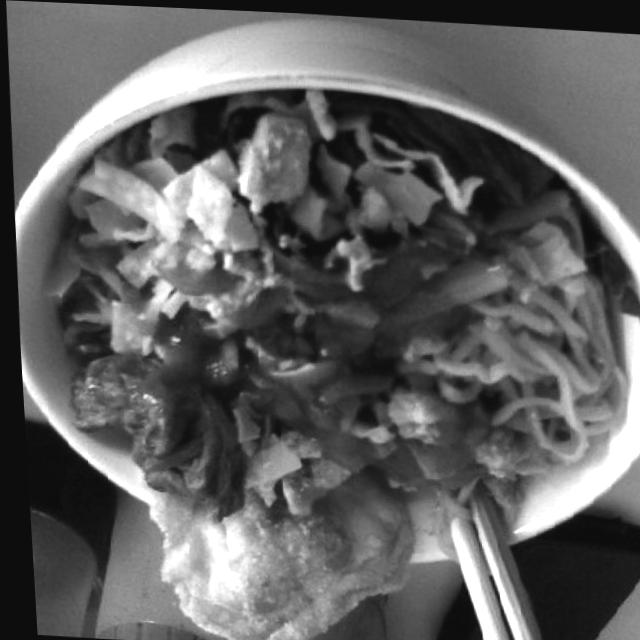面条主食: (15, 69, 640, 633)
